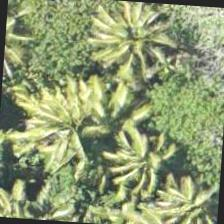Kelapa_Sawit: (34, 67, 130, 163), (92, 0, 188, 83), (127, 142, 223, 223)
